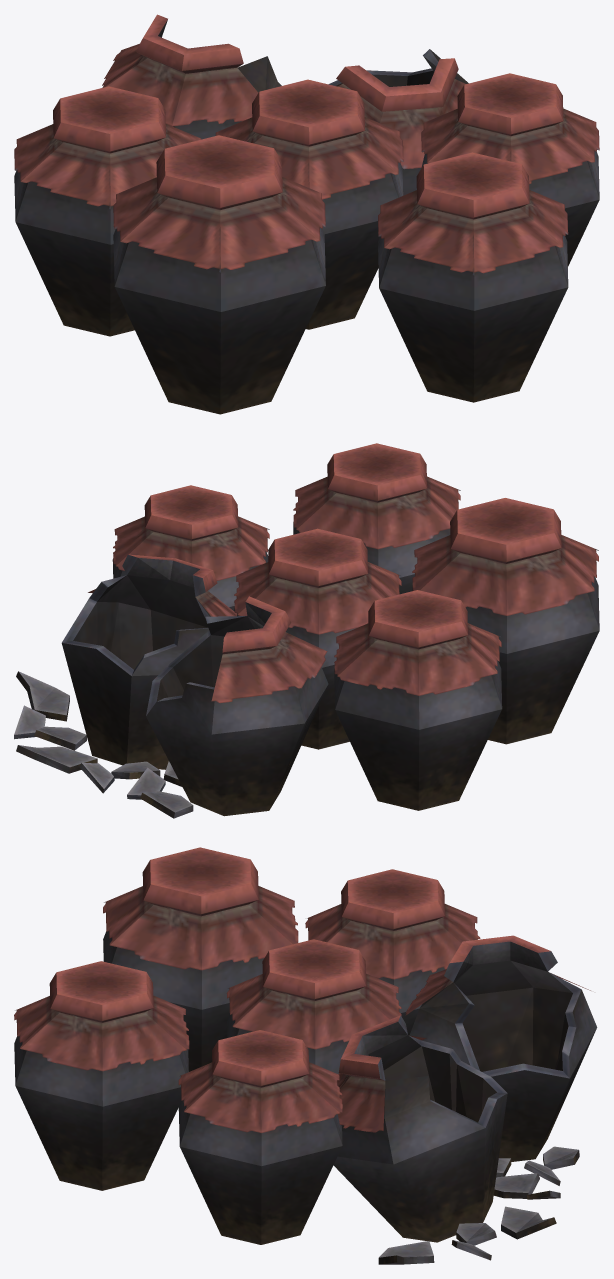
Rendered from 坛子堆01.fbx.
3 renders of one model, top to bottom at view 1: azimuth 30°, elevation 25°; view 2: azimuth 150°, elevation 25°; view 3: azimuth 270°, elevation 25°, orthographic. The views are drawn at different scales.
Visible parts, largest first — view 1: qingmo_obj_424 [10484396]; view 2: qingmo_obj_424 [10484396]; view 3: qingmo_obj_424 [10484396].
Boxes of the visible parts, bbox=[...] form: qingmo_obj_424 [10484396]: bbox=[14, 14, 599, 414]; qingmo_obj_424 [10484396]: bbox=[14, 443, 599, 818]; qingmo_obj_424 [10484396]: bbox=[14, 847, 597, 1264].
Bounding box in the file's own units: 9.02 × 9 × 3.94.
Materials: 1 (1 with a texture image).
